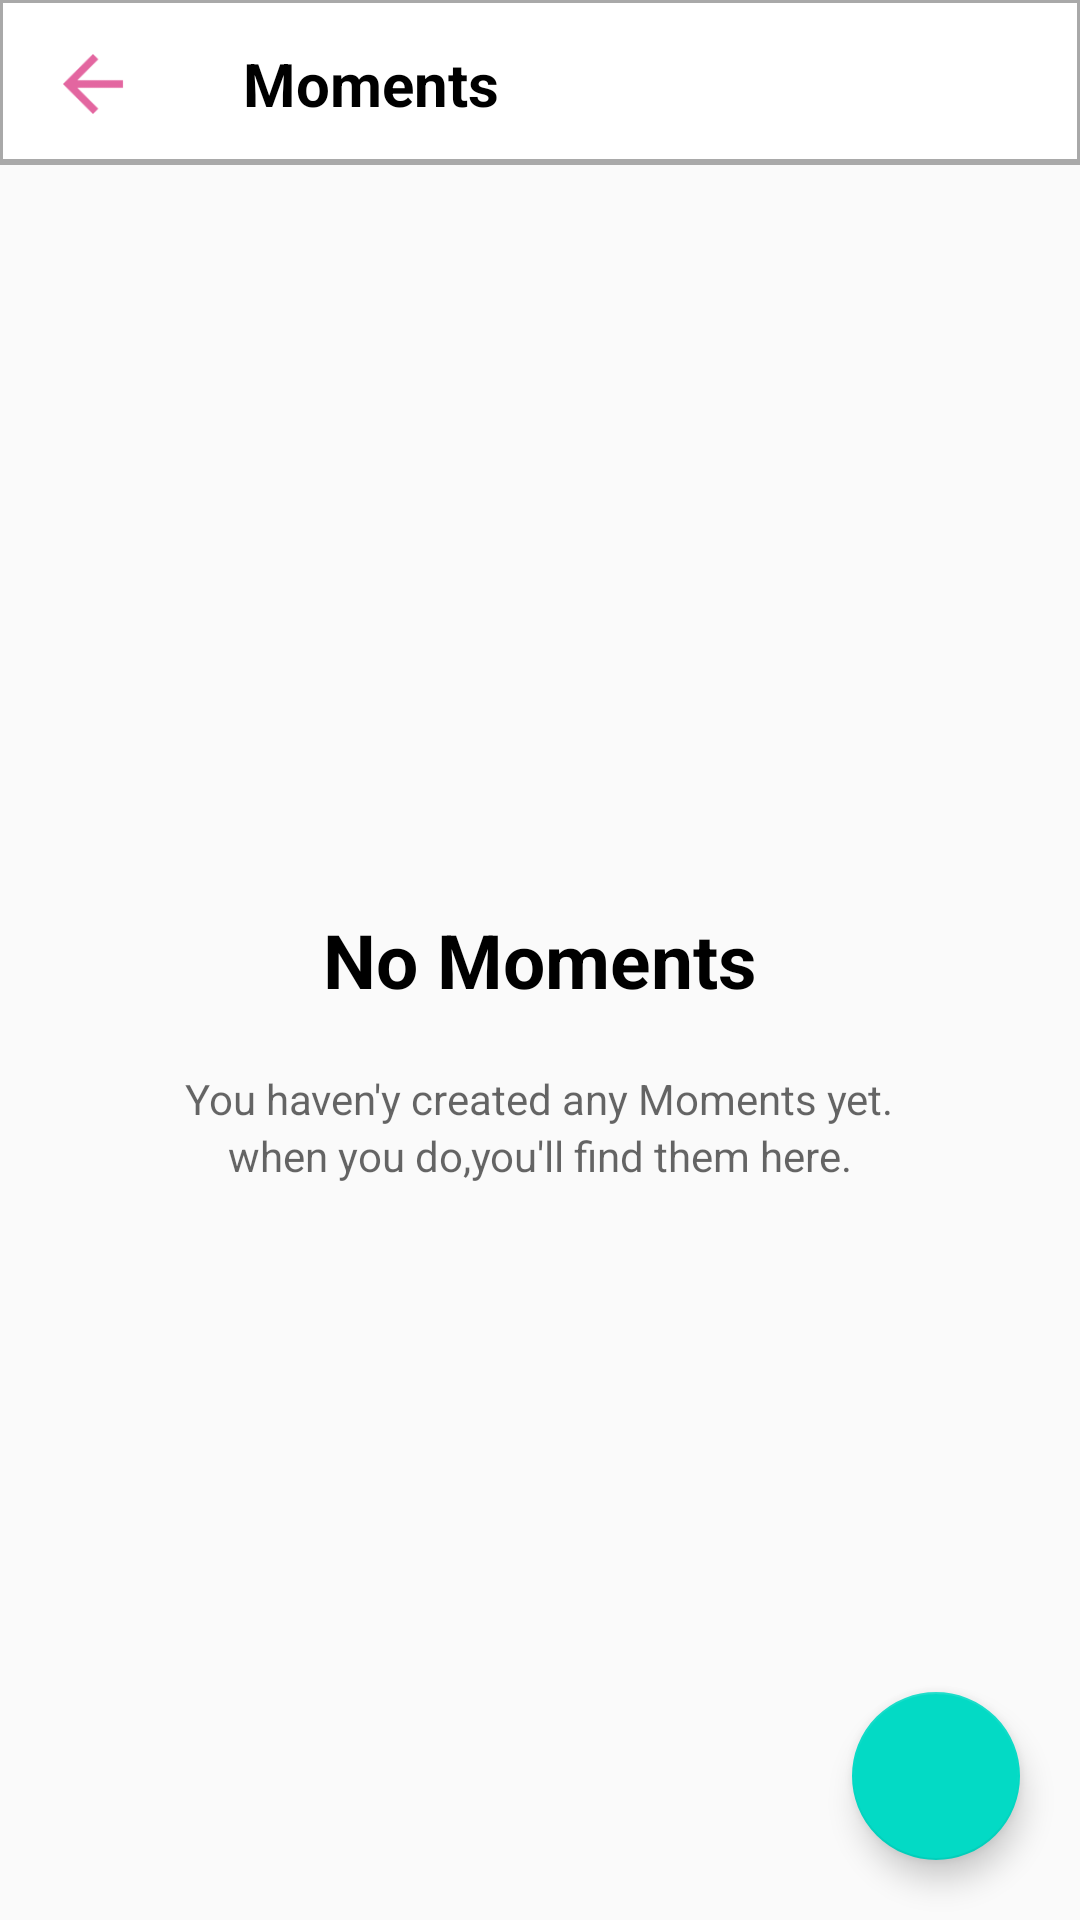

Point at icon controls on the screen. Image size 1080 x 1920, points as [x,y].
back: [93,84]
